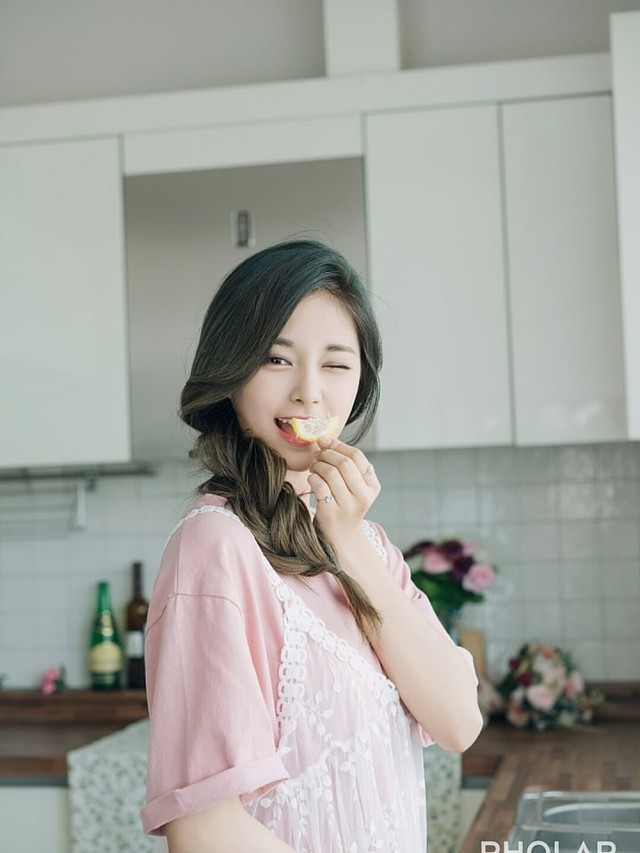people: (182, 236, 438, 853)
